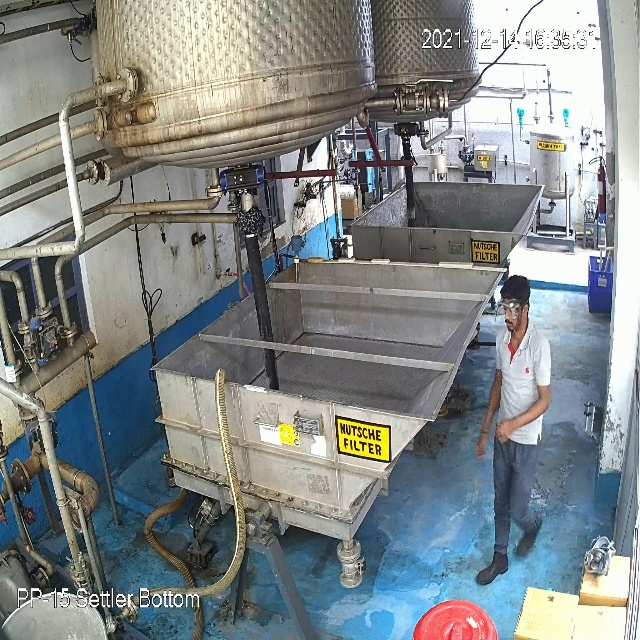Gafas: (495, 298, 525, 320)
Sin_guantes: (497, 397, 552, 441), (475, 395, 500, 461)
Sin_mascara: (500, 314, 523, 336)
